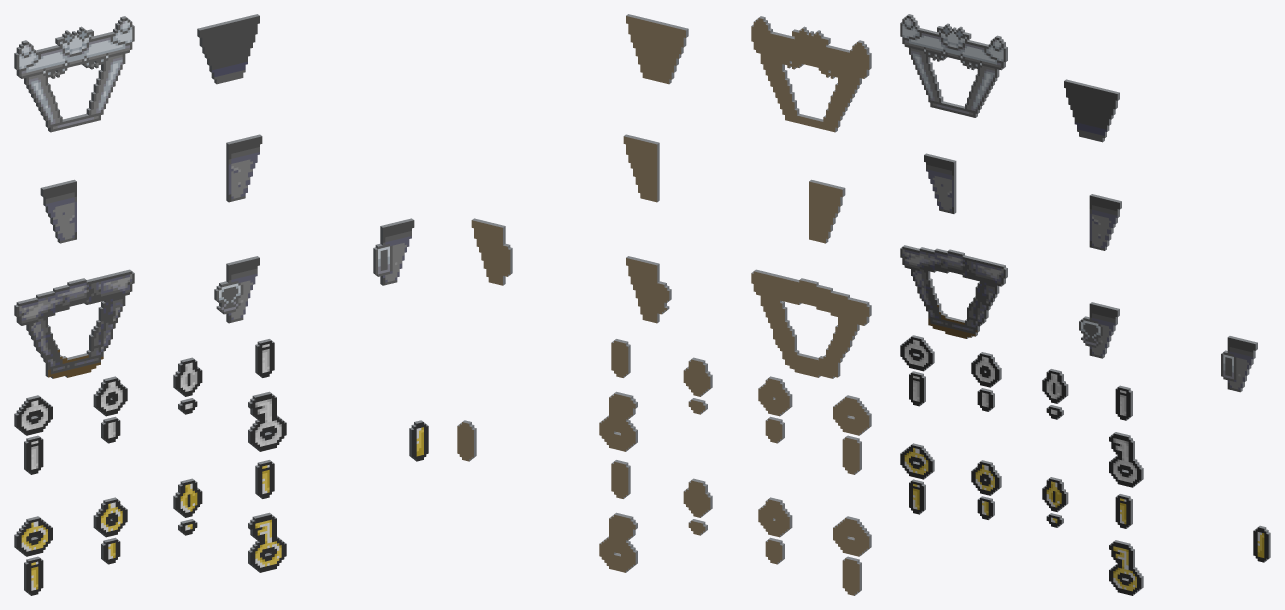
The model's file is door_02_treasureroomdoor_angel.glb.
3 renders of one model, left to right at view 1: azimuth 30°, elevation 25°; view 2: azimuth 150°, elevation 25°; view 3: azimuth 330°, elevation 25°, orthographic. The views are drawn at different scales.
Bounding box in the file's own units: 171 × 233 × 1.8.
